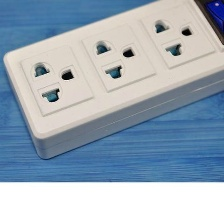three_eye_plug: (1, 0, 223, 163)
